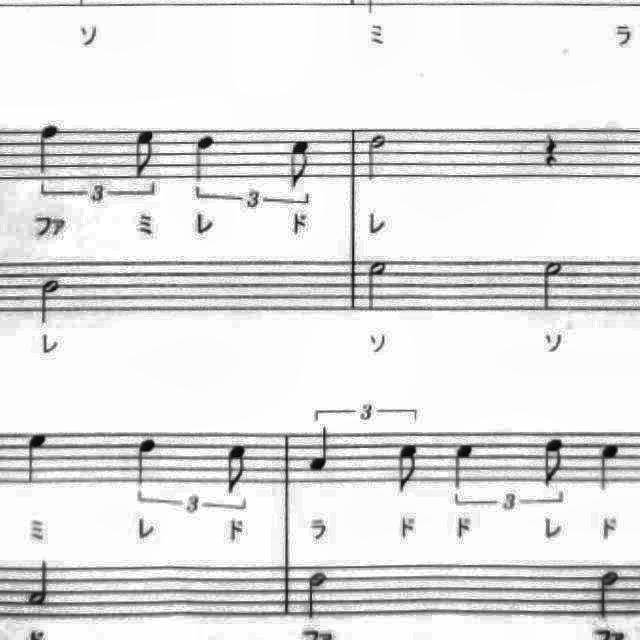Eighth-note: (389, 437, 426, 499), (220, 438, 256, 499), (280, 133, 316, 194), (535, 432, 571, 492), (128, 123, 164, 181)
Half-note: (536, 253, 572, 314), (361, 253, 395, 317), (300, 566, 334, 626), (23, 555, 57, 613), (592, 564, 624, 624), (34, 274, 66, 330), (361, 130, 392, 187)
Quarter-note: (18, 426, 54, 490), (590, 438, 626, 498), (130, 432, 166, 492), (187, 130, 223, 188), (446, 435, 482, 493), (31, 119, 65, 178), (304, 422, 338, 478)
Quarter-rest: (538, 126, 568, 174)
